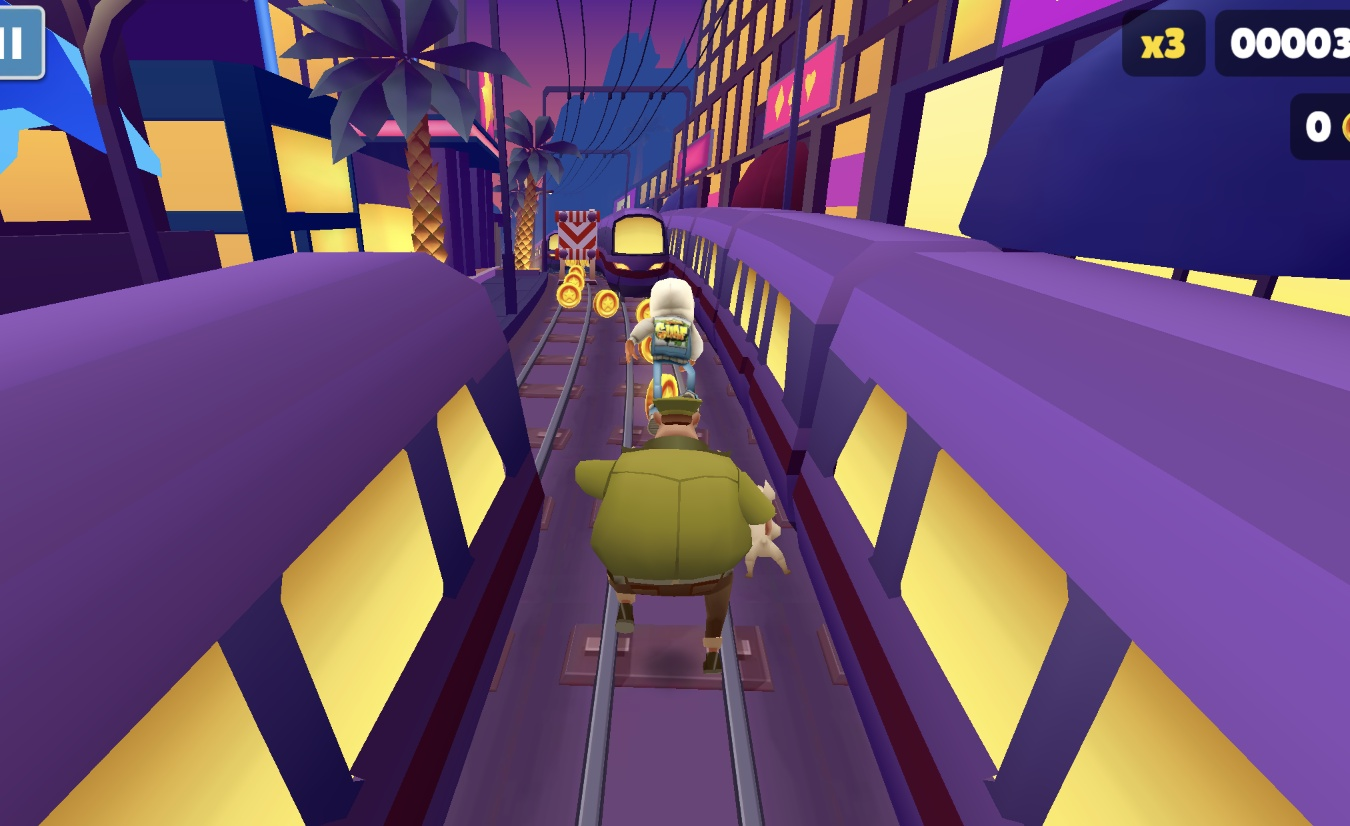overhead_barrier: (550, 209, 603, 286)
train: (671, 203, 1350, 826), (1, 251, 540, 826), (598, 207, 671, 298)
